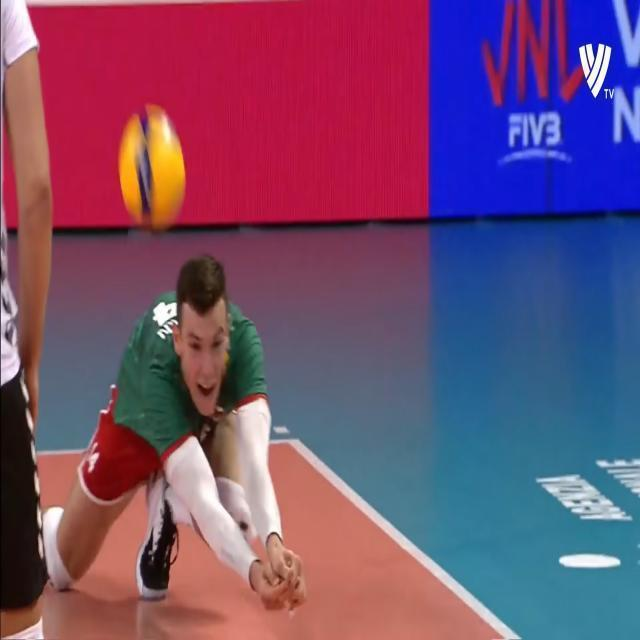volleyball: (118, 104, 186, 227)
